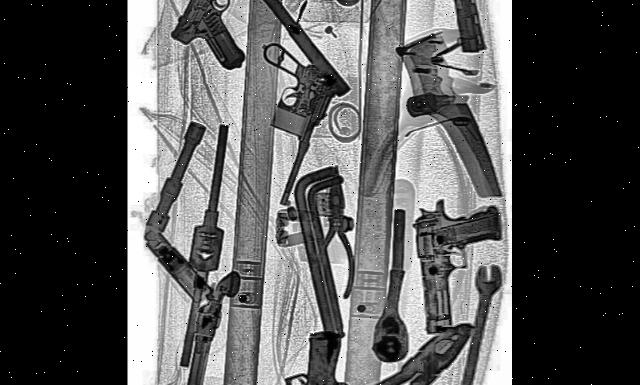Gun: (230, 9, 338, 210), (414, 181, 509, 340), (170, 0, 269, 112), (382, 0, 487, 90), (178, 253, 242, 385), (255, 320, 353, 385)
Pliers: (300, 290, 482, 385), (319, 162, 356, 297)
Wrench: (441, 249, 506, 385)
